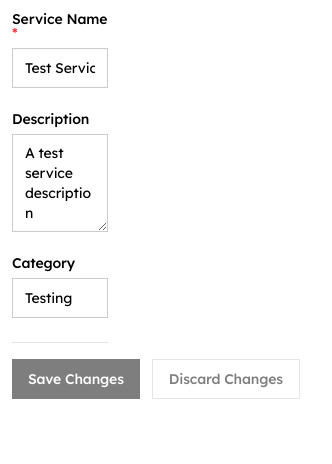
Test case: ServiceMetadataForm › Form Validation › shows error when name is empty on submit
The width and height of the screenshot is (332, 464).
Clear the field labelled "Service Name *": (60, 68) top-left (12, 48), bottom-right (108, 88)
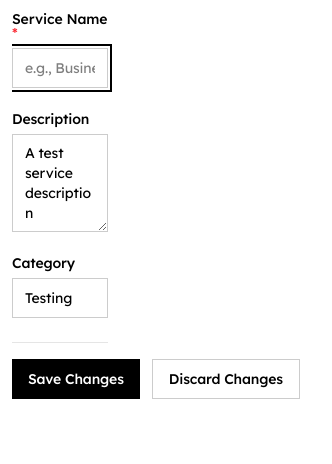
Click the button "Save Changes": (76, 379) top-left (12, 359), bottom-right (140, 399)
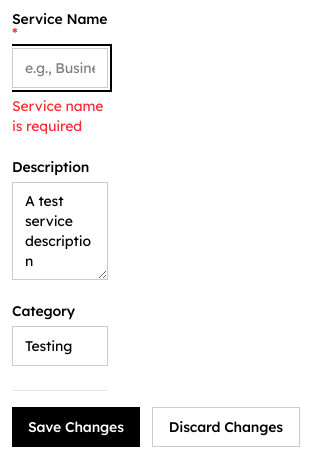
Result: the text "Service name is required" is shown at top-left (12, 96), bottom-right (108, 136)
